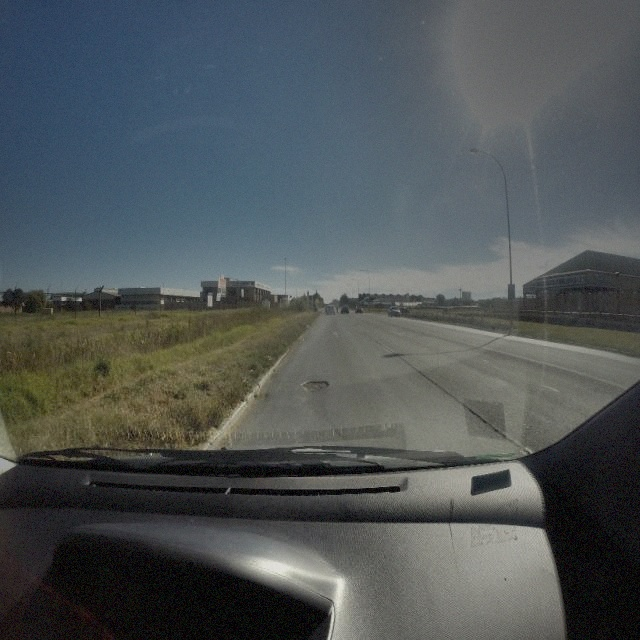pothole: (301, 377, 330, 393)
